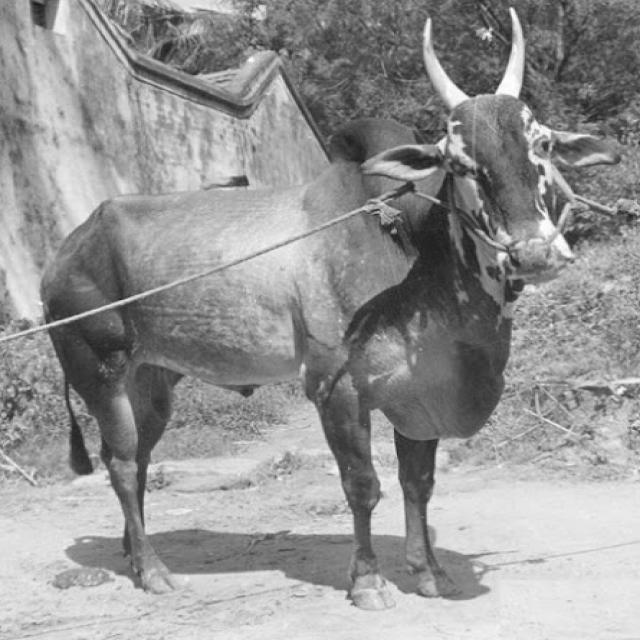Cow: (36, 5, 621, 611)
